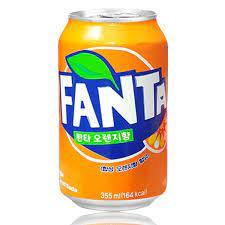fanta_orange: (53, 6, 171, 213)
